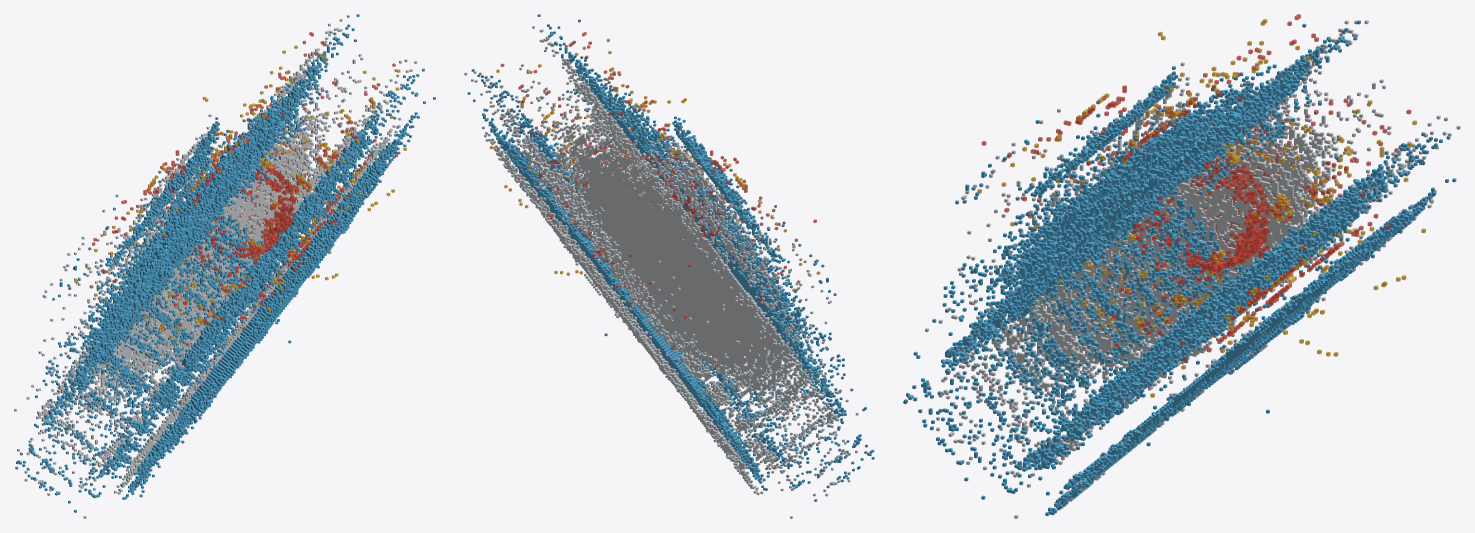
Rendered from hall_01_scene_geometry.obj.
The picture shows the model from 3 angles, left to right: view 1: azimuth 30°, elevation 25°; view 2: azimuth 150°, elevation 25°; view 3: azimuth 330°, elevation 25°; orthographic projection. The views are drawn at different scales.
Visible parts, largest first — view 1: Trusted_Walls_Pillars, Trusted_Floor, B0_Wall_Ghost, B2_Wall_Ghost, B0_Floor_Ghost; view 2: Trusted_Floor, Trusted_Walls_Pillars, B0_Floor_Ghost, B2_Wall_Ghost, B0_Wall_Ghost; view 3: Trusted_Walls_Pillars, Trusted_Floor, B0_Wall_Ghost, B2_Wall_Ghost, B0_Floor_Ghost.
Part boxes in pixels (box(x1,y1,x2,y2)): Trusted_Walls_Pillars: box(15, 14, 435, 512); Trusted_Floor: box(14, 15, 417, 518); B0_Wall_Ghost: box(89, 32, 397, 346); B2_Wall_Ghost: box(74, 45, 406, 374); B0_Floor_Ghost: box(101, 77, 379, 371); Trusted_Floor: box(464, 25, 858, 518); Trusted_Walls_Pillars: box(467, 14, 874, 501); B0_Floor_Ghost: box(499, 90, 774, 365); B2_Wall_Ghost: box(489, 38, 820, 291); B0_Wall_Ghost: box(500, 32, 816, 296); Trusted_Walls_Pillars: box(903, 20, 1456, 515); Trusted_Floor: box(925, 20, 1460, 518); B0_Wall_Ghost: box(981, 14, 1411, 361); B2_Wall_Ghost: box(977, 19, 1425, 397); B0_Floor_Ghost: box(1037, 80, 1398, 387).
Bounding box in the file's own units: 48.4 × 49.28 × 4.16.
